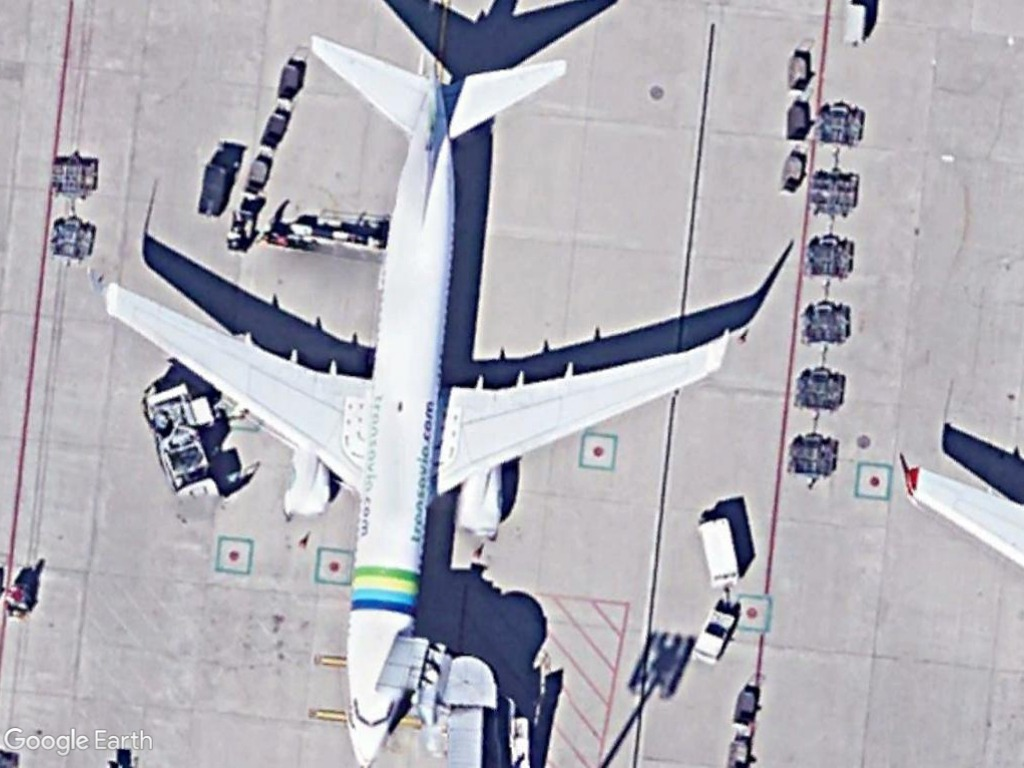airliner: (96, 30, 730, 768)
